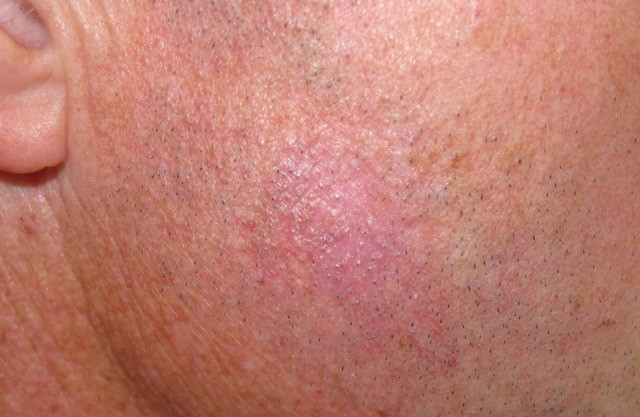Basa Cell Carcinoma: (216, 106, 506, 412)
